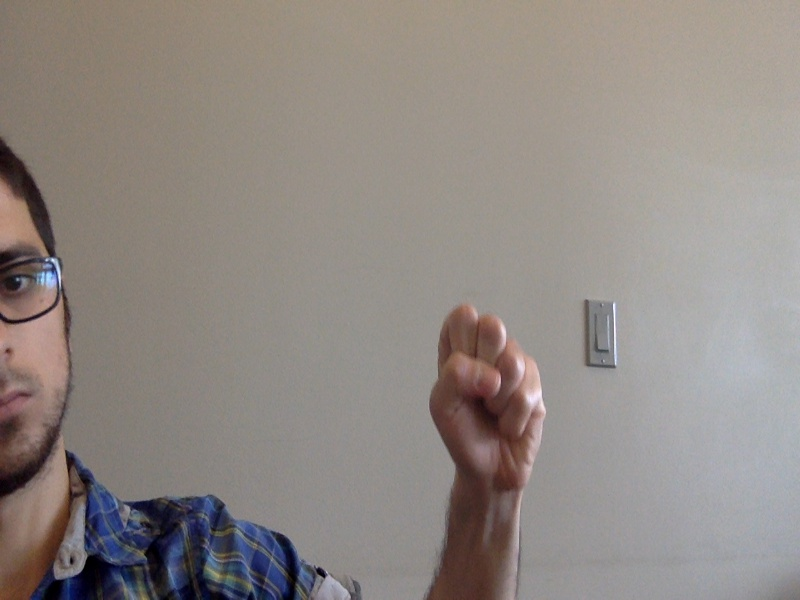0-hand: (429, 303, 547, 497)
